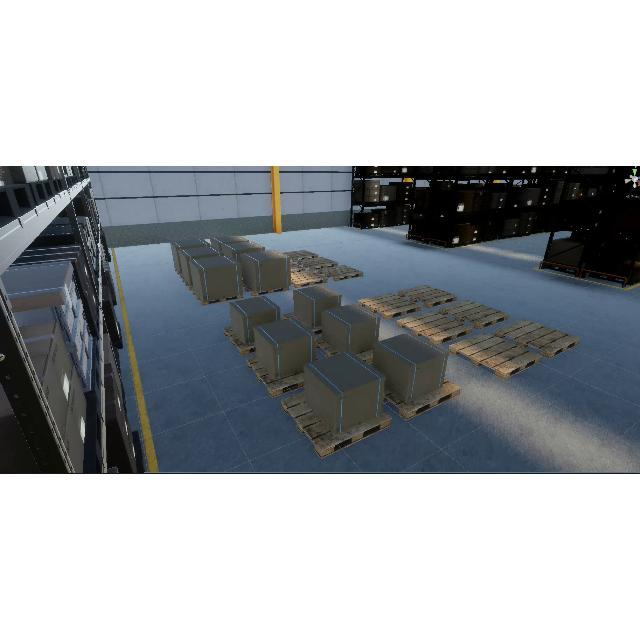wooden_pallet: (280, 392, 392, 458), (449, 332, 542, 380), (494, 320, 581, 359), (383, 378, 461, 420), (397, 310, 473, 345), (245, 355, 304, 397), (439, 300, 509, 330), (358, 292, 421, 320), (398, 284, 458, 308), (223, 326, 256, 356), (192, 289, 244, 306), (318, 265, 363, 282), (291, 270, 328, 288), (243, 283, 289, 296), (297, 257, 338, 271), (283, 249, 318, 262)
